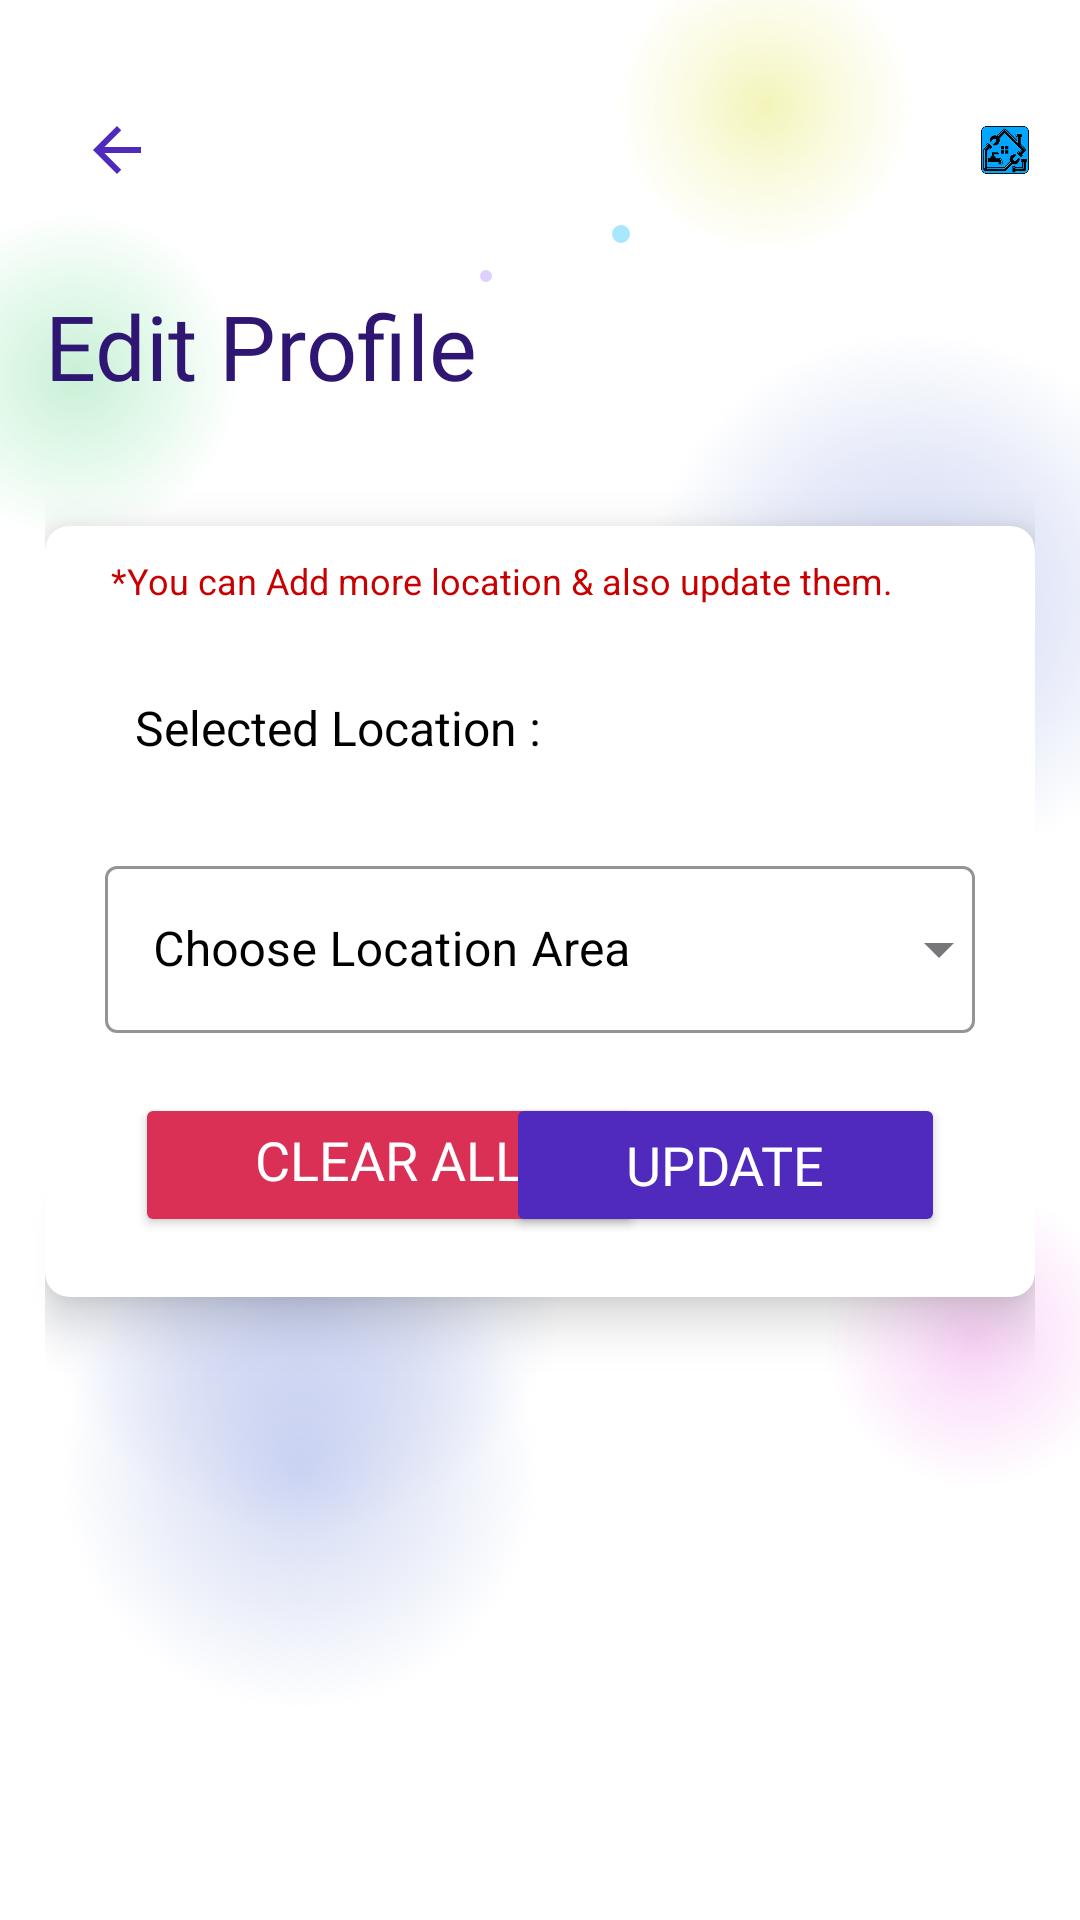

Screen size 1080 x 1920. Icon name, then its box in pixels as [x1, y1, x2, y2]:
back arrow: [93, 126, 141, 174]
